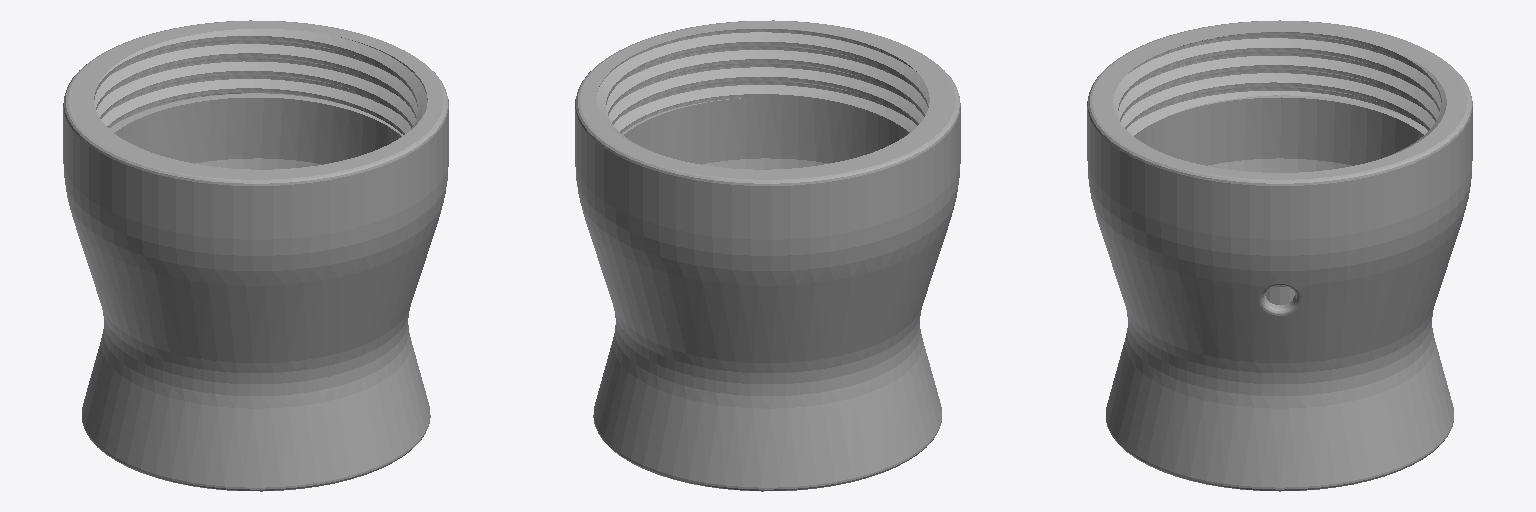
URDF robot description (Granular_Gripper):
<?xml version="1.0" encoding="utf-8"?>
<!-- =================================================================================== -->
<!-- |    This document was autogenerated by xacro from Granular_Gripper.xacro         | -->
<!-- |    EDITING THIS FILE BY HAND IS NOT RECOMMENDED                                 | -->
<!-- =================================================================================== -->
<robot name="Granular_Gripper">
  <material name="silver">
    <color rgba="0.700 0.700 0.700 1.000"/>
  </material>
  <gazebo>
    <plugin filename="libgazebo_ros_control.so" name="control"/>
  </gazebo>
  <gazebo reference="base_link">
    <material>Gazebo/Silver</material>
    <mu1>0.2</mu1>
    <mu2>0.2</mu2>
    <selfCollide>true</selfCollide>
    <gravity>true</gravity>
  </gazebo>
  <link name="base_link">
    <inertial>
      <origin rpy="0 0 0" xyz="-2.5341825311606904e-05 3.0043157359181438e-05 -0.022682975164383043"/>
      <mass value="0.6935960201081469"/>
      <inertia ixx="0.000644" ixy="-0.0" ixz="-0.0" iyy="0.000643" iyz="-1e-06" izz="0.000719"/>
    </inertial>
    <visual>
      <origin rpy="0 0 0" xyz="0 0 0"/>
      <geometry>
        <mesh filename="package://Granular_Gripper_description/meshes/base_link.stl" scale="0.001 0.001 0.001"/>
      </geometry>
      <material name="silver"/>
    </visual>
    <collision>
      <origin rpy="0 0 0" xyz="0 0 0"/>
      <geometry>
        <mesh filename="package://Granular_Gripper_description/meshes/base_link.stl" scale="0.001 0.001 0.001"/>
      </geometry>
    </collision>
  </link>
</robot>

--- Render facts (derived) ---
The picture shows the robot from 3 angles, left to right: view 1: azimuth 30°, elevation 25°; view 2: azimuth 150°, elevation 25°; view 3: azimuth 270°, elevation 25°; orthographic projection.
Robot: Granular_Gripper — 1 links, 0 joints (none); root link base_link; default pose: every joint at zero.
Visible links, largest first — view 1: base_link; view 2: base_link; view 3: base_link.
Link boxes in pixels (bbox=[...]): base_link: bbox=[63, 20, 448, 491]; base_link: bbox=[575, 20, 960, 491]; base_link: bbox=[1087, 20, 1472, 491].
Bounding box of the posed robot: 0.0799 × 0.08 × 0.073 m (x, y, z).
1 mesh visuals loaded from 1 distinct referenced files (1 binary STL).